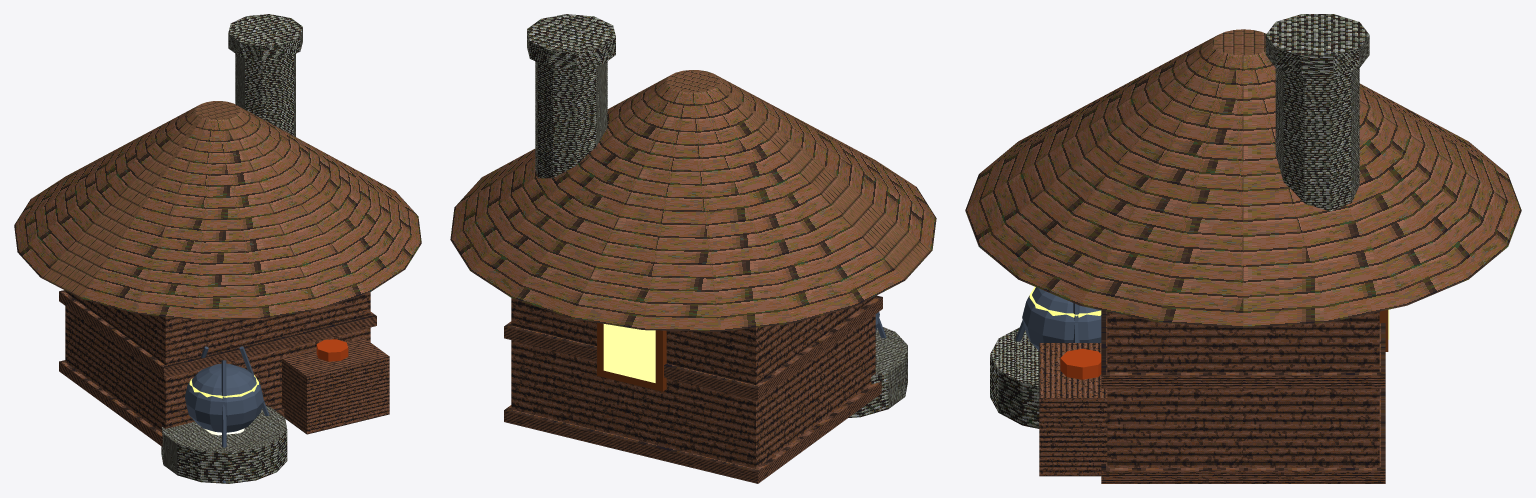
Rendered from cocina_juncia.glb.
3 renders of one model, left to right at view 1: azimuth 30°, elevation 25°; view 2: azimuth 150°, elevation 25°; view 3: azimuth 270°, elevation 25°, orthographic. The views are drawn at different scales.
Visible parts, largest first — view 1: Cone, Cube, Cube.004, Cylinder.002, Cube.002, Sphere, Cylinder, Cylinder.001, Cube.001, Cylinder.007, Cylinder.005; view 2: Cone, Cube, Cylinder, Cube.001, Cube.002, Cylinder.001, Cube.006, Cylinder.002, Cube.005; view 3: Cone, Cube, Cylinder, Cube.004, Cube.002, Cylinder.001, Cube.001, Cylinder.002, Sphere, Cylinder.007.
Boxes of the visible parts, bbox=[...] form: Cone: bbox=[14, 101, 421, 320]; Cube: bbox=[65, 291, 370, 432]; Cube.004: bbox=[282, 338, 389, 434]; Cylinder.002: bbox=[161, 406, 287, 483]; Cube.002: bbox=[59, 290, 376, 377]; Sphere: bbox=[185, 363, 263, 432]; Cylinder: bbox=[235, 54, 295, 136]; Cylinder.001: bbox=[228, 14, 302, 60]; Cube.001: bbox=[59, 360, 284, 446]; Cylinder.007: bbox=[316, 339, 348, 361]; Cylinder.005: bbox=[221, 360, 226, 482]; Cone: bbox=[450, 70, 936, 331]; Cube: bbox=[511, 296, 875, 468]; Cylinder: bbox=[535, 61, 607, 178]; Cube.001: bbox=[504, 381, 881, 483]; Cube.002: bbox=[504, 295, 882, 400]; Cylinder.001: bbox=[527, 14, 615, 69]; Cube.006: bbox=[603, 324, 655, 382]; Cylinder.002: bbox=[848, 327, 907, 417]; Cube.005: bbox=[597, 322, 666, 391]; Cone: bbox=[965, 29, 1521, 327]; Cube: bbox=[1107, 311, 1379, 467]; Cylinder: bbox=[1275, 68, 1359, 211]; Cube.004: bbox=[1039, 343, 1107, 476]; Cube.002: bbox=[1101, 310, 1385, 388]; Cylinder.001: bbox=[1265, 14, 1369, 75]; Cube.001: bbox=[1101, 388, 1385, 483]; Cylinder.002: bbox=[990, 327, 1039, 428]; Sphere: bbox=[1022, 287, 1101, 350]; Cylinder.007: bbox=[1060, 348, 1101, 379].
Size of the model in its own units: 4.5 by 4 by 4.5.
Materials: 9 (3 with a texture image).
